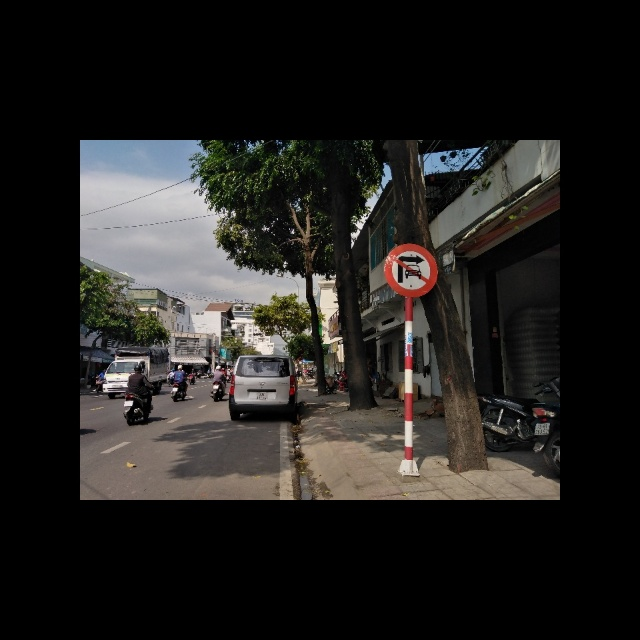Cấm xe ô tô rẽ trái: (383, 242, 439, 297)
